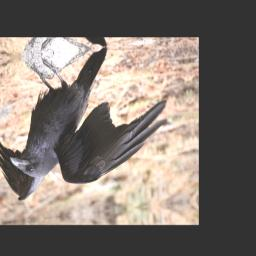Crow: (0, 42, 175, 206)
